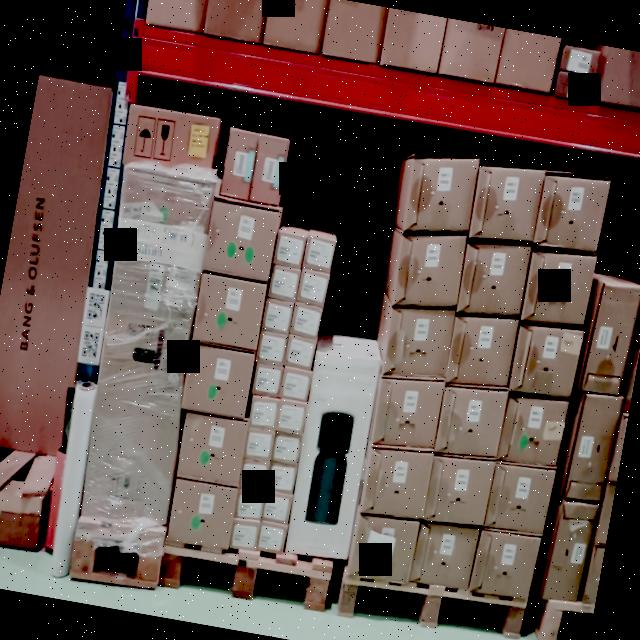box: (72, 165, 220, 526), (284, 352, 381, 560), (122, 108, 218, 176), (519, 245, 596, 328), (180, 342, 258, 422), (204, 197, 281, 278), (446, 311, 523, 391), (470, 164, 546, 244), (534, 170, 610, 250), (193, 272, 270, 350), (370, 372, 446, 446), (508, 324, 582, 400), (564, 394, 616, 502), (422, 451, 496, 526), (434, 383, 506, 459), (173, 412, 248, 484), (458, 244, 530, 319), (361, 444, 432, 520), (165, 477, 239, 549), (392, 240, 466, 312), (486, 458, 554, 536), (381, 308, 455, 378), (348, 512, 418, 586), (411, 518, 479, 592), (407, 158, 474, 230), (588, 288, 634, 392), (501, 396, 566, 469), (472, 530, 538, 598), (546, 506, 594, 598), (220, 125, 262, 202), (248, 130, 288, 204), (275, 398, 310, 438), (253, 356, 284, 398), (262, 298, 294, 336), (246, 426, 277, 464), (270, 263, 300, 302), (280, 367, 313, 402), (234, 488, 266, 524), (292, 302, 322, 338), (297, 272, 330, 304), (303, 237, 335, 269), (278, 230, 306, 266), (250, 394, 277, 430), (284, 337, 314, 368), (230, 520, 260, 550), (259, 334, 287, 366), (266, 470, 298, 498), (258, 526, 287, 556), (262, 494, 290, 524), (272, 437, 300, 466), (240, 465, 268, 489)
